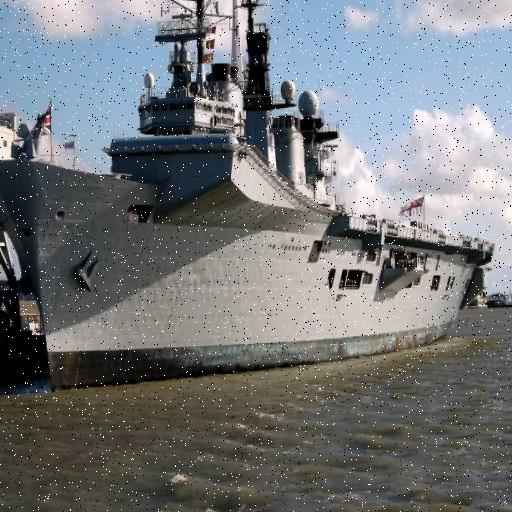Portanaves: (1, 1, 501, 408)
